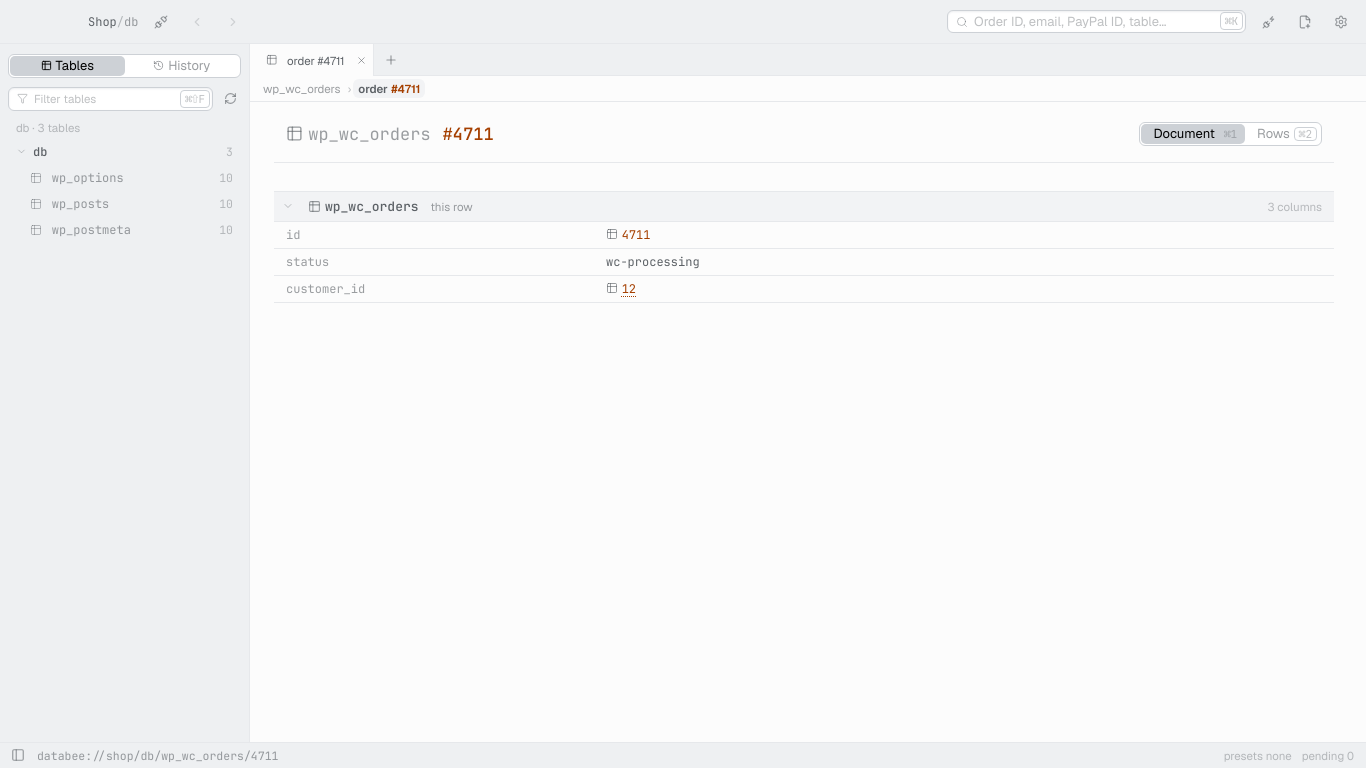
Test: ShortcutsDialog › closes with the Close button
Check: the element showing "db 3 wp_options 10 wp_posts 10 wp_postmeta 10" is shown, box top-left (16, 144), bottom-right (233, 238)
Check: the element named "Object header" is shown, box top-left (274, 102), bottom-right (1334, 163)
Type keys "{Shift>}?{/Shift}"
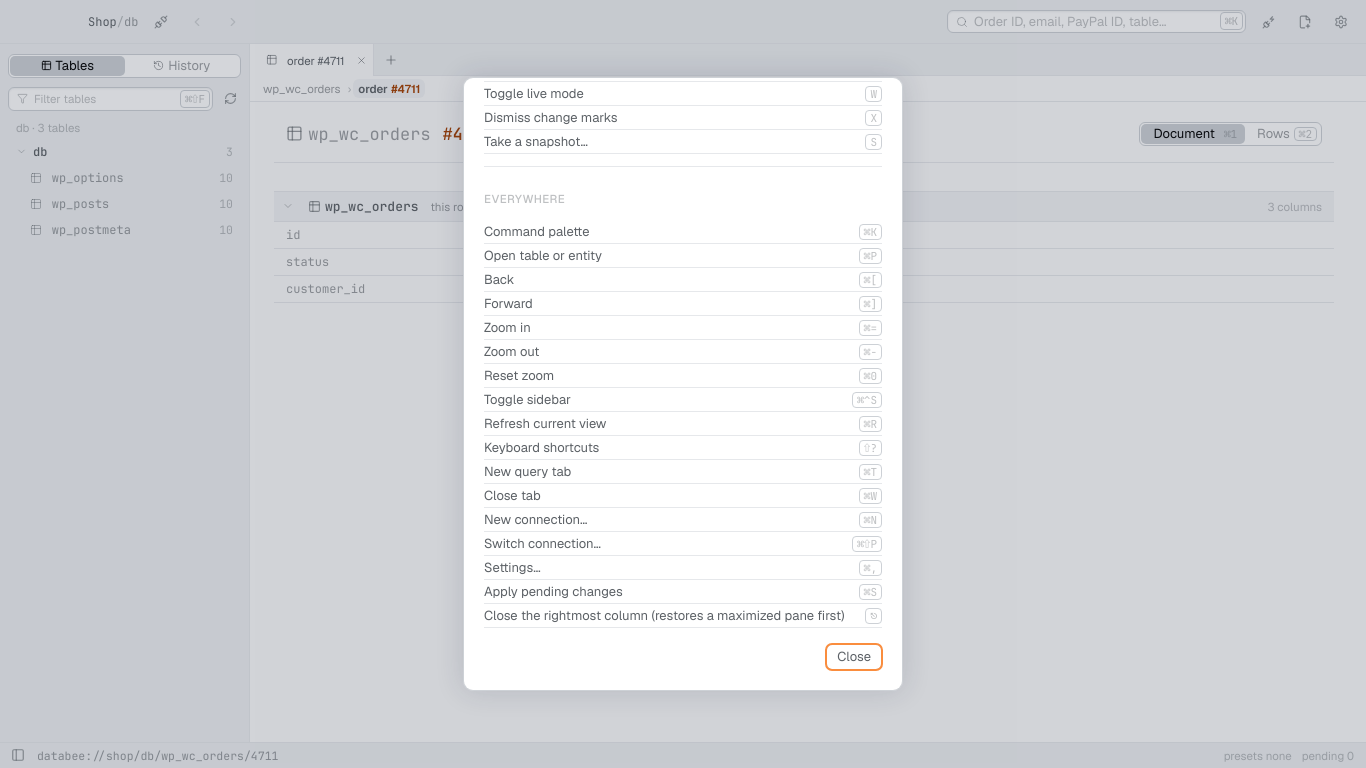
Click the button "Close" at x=854, y=657, box top-left (826, 644), bottom-right (882, 670)
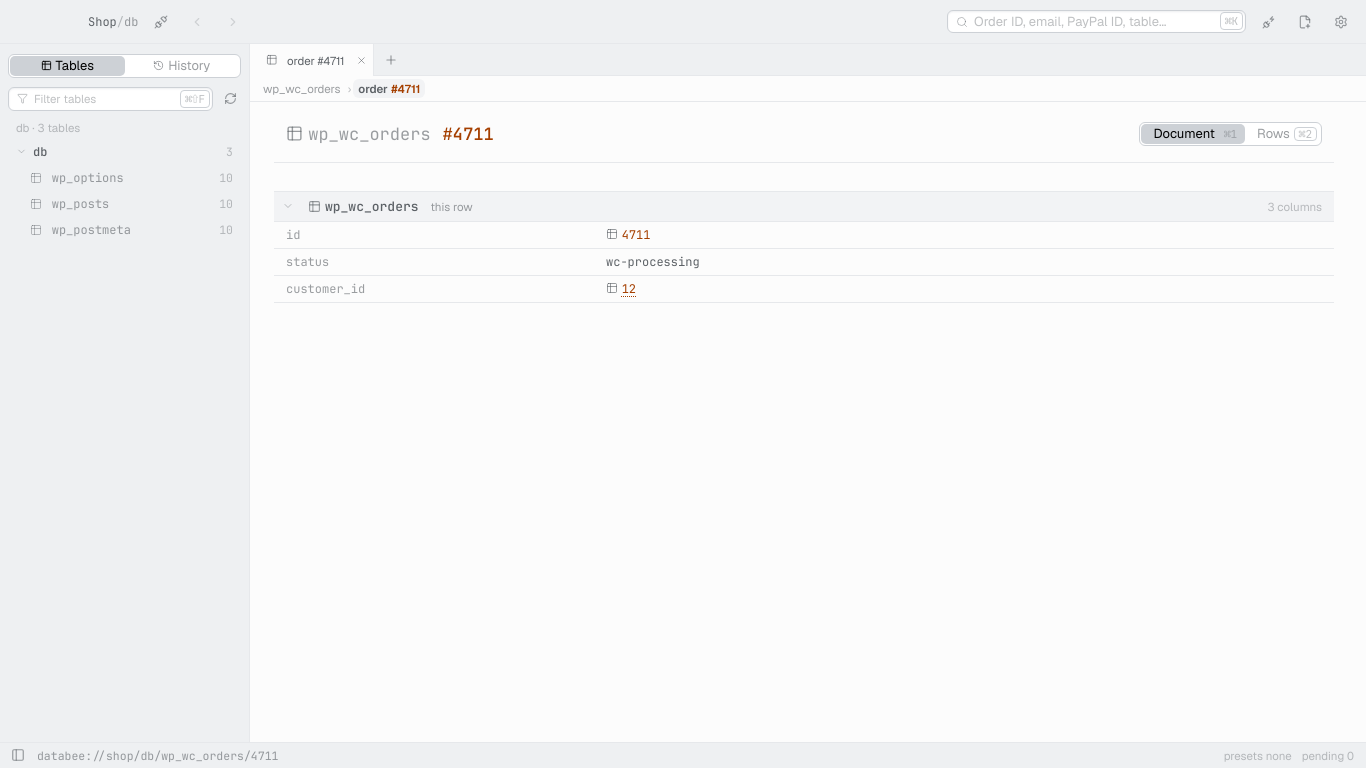
Check: the text "Keyboard shortcuts" is gone
